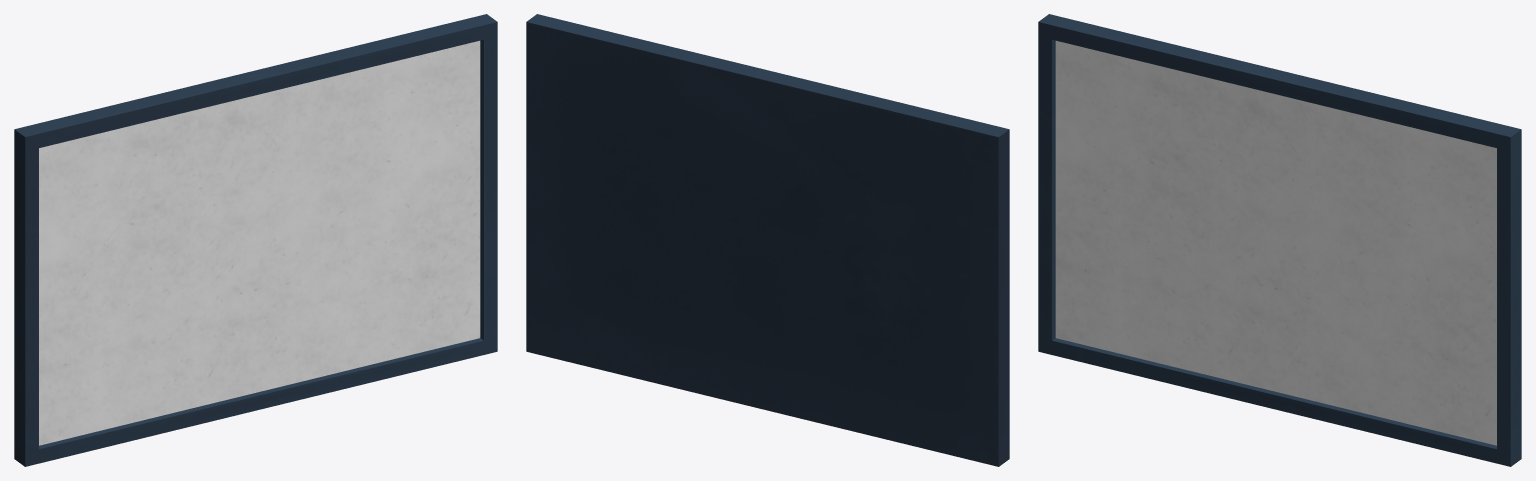
File: MonitorV2.glb
3 renders of one model, left to right at view 1: azimuth 30°, elevation 25°; view 2: azimuth 150°, elevation 25°; view 3: azimuth 330°, elevation 25°, orthographic.
Parts seen in each view (by area): view 1: MonitorSmaller; view 2: MonitorSmaller; view 3: MonitorSmaller.
Boxes of the visible parts, <box> form: MonitorSmaller: <box>14,14,497,466</box>; MonitorSmaller: <box>526,14,1009,466</box>; MonitorSmaller: <box>1038,14,1521,466</box>.
Size of the model in its own units: 3 by 2 by 0.12.
1 material, 1 textured.
